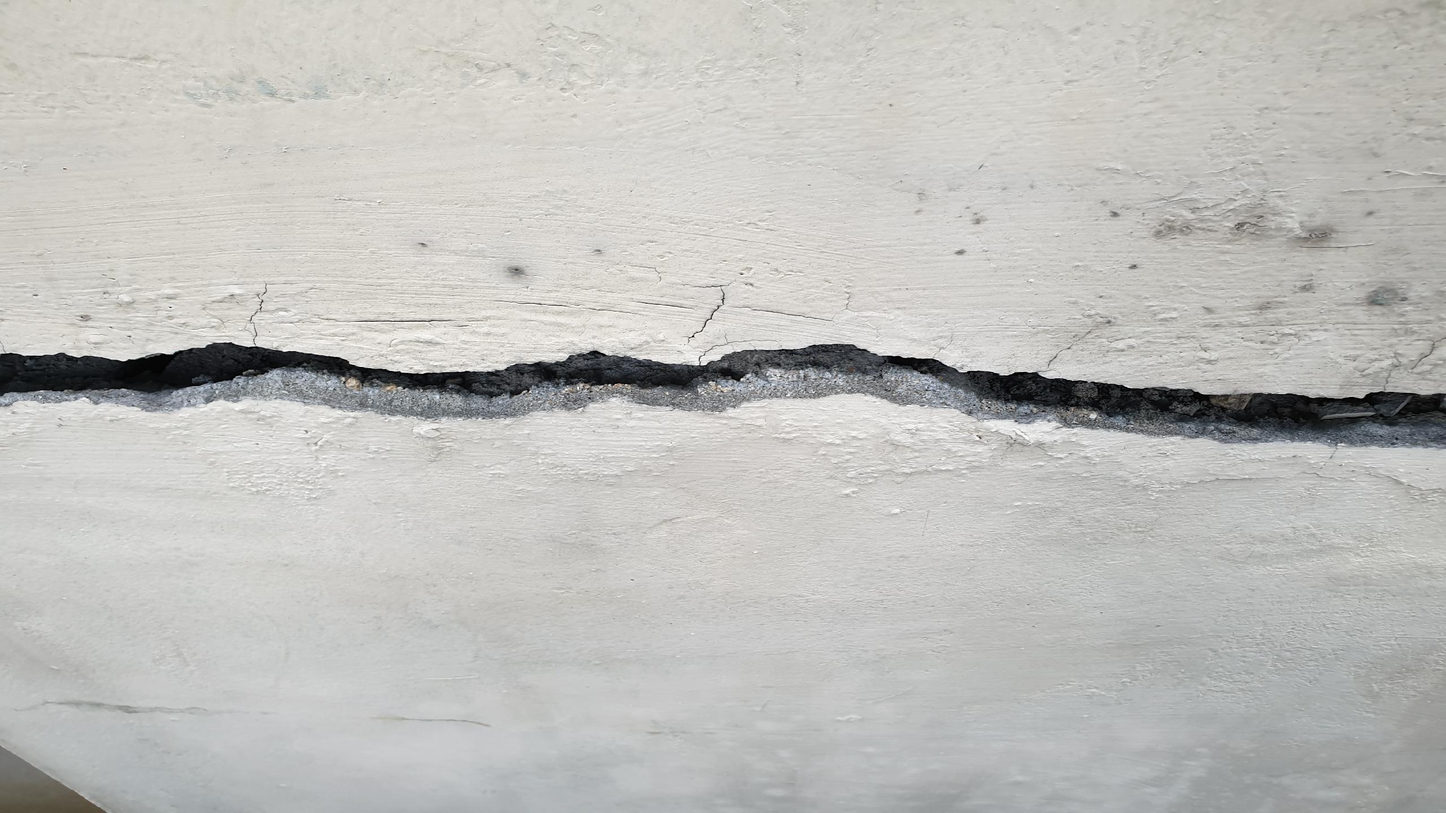crack: (0, 340, 1445, 447)
